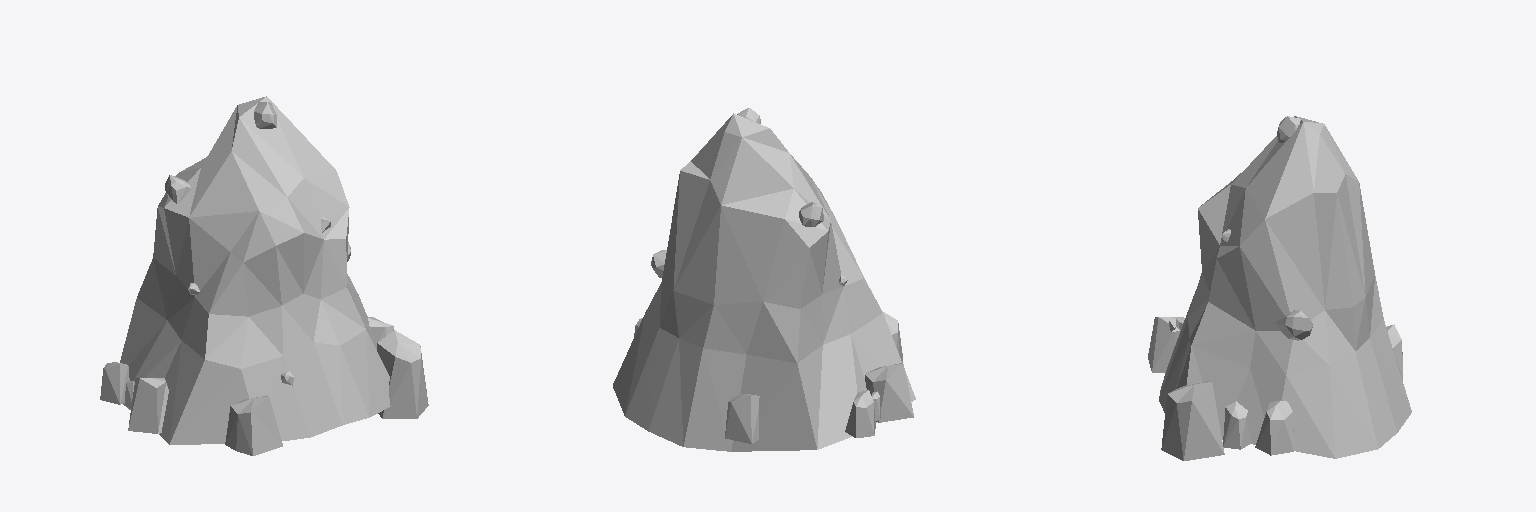
The model's file is obstacle2-2.obj.
The picture shows the model from 3 angles: view 1: azimuth 30°, elevation 25°; view 2: azimuth 150°, elevation 25°; view 3: azimuth 270°, elevation 25°; orthographic projection.
Parts seen in each view (by area): view 1: Cube.003_Cube.044; view 2: Cube.003_Cube.044; view 3: Cube.003_Cube.044.
Boxes of the visible parts, x1,y1,x2,y2 form: Cube.003_Cube.044: [100, 96, 428, 455]; Cube.003_Cube.044: [613, 108, 915, 451]; Cube.003_Cube.044: [1148, 116, 1411, 460].
Size of the model in its own units: 3.94 by 4.05 by 3.29.